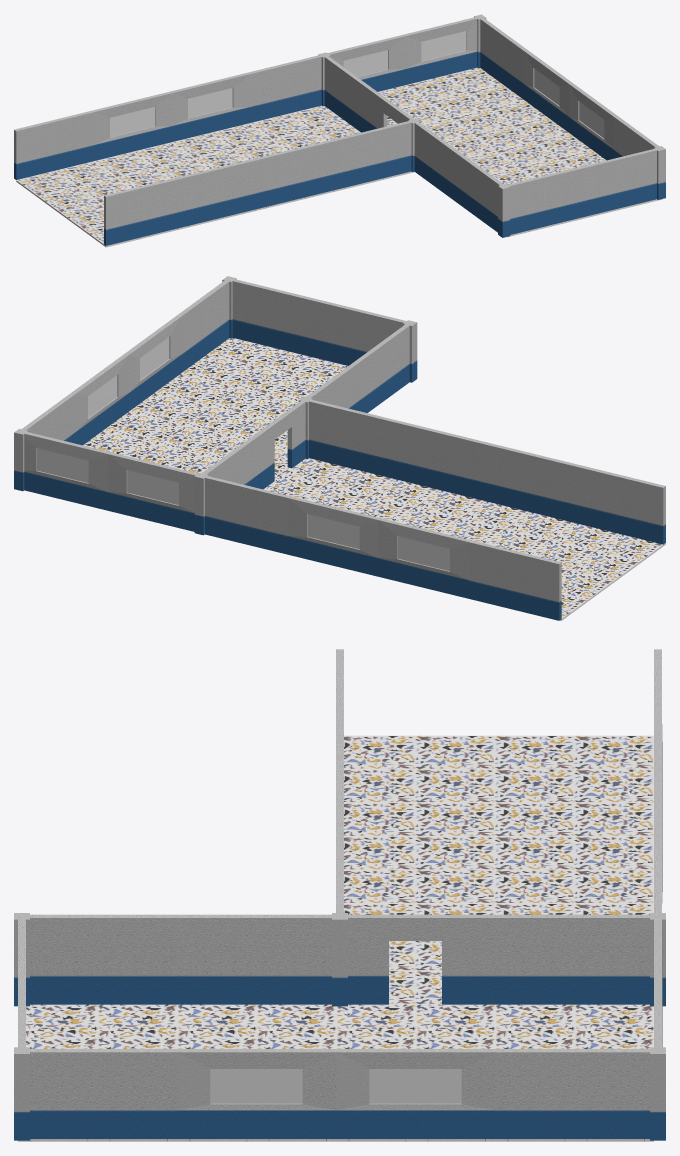
3 renders of one model, top to bottom at view 1: azimuth 30°, elevation 25°; view 2: azimuth 150°, elevation 25°; view 3: azimuth 270°, elevation 25°, orthographic. The views are drawn at different scales.
Visible parts, largest first — view 1: 101; view 2: 101; view 3: 101.
Boxes of the visible parts, <box> form: 101: <box>14,14,665,247</box>; 101: <box>14,276,665,620</box>; 101: <box>14,649,665,1141</box>.
Size of the model in its own units: 6025 by 620 by 4100.
3 materials, 2 textured.
